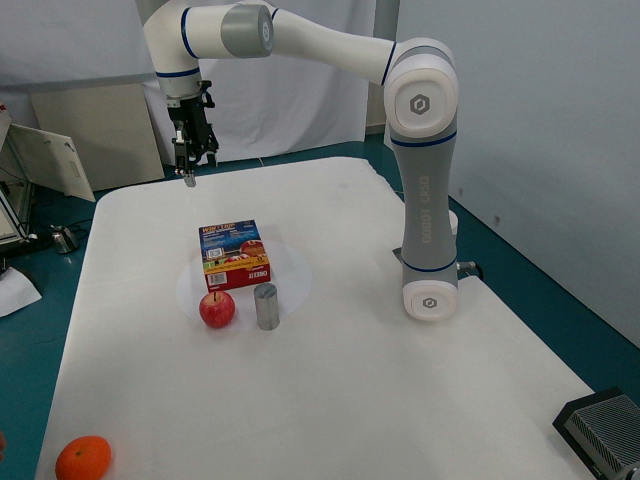apple: (198, 284, 239, 340)
metalROD: (248, 278, 289, 338)
